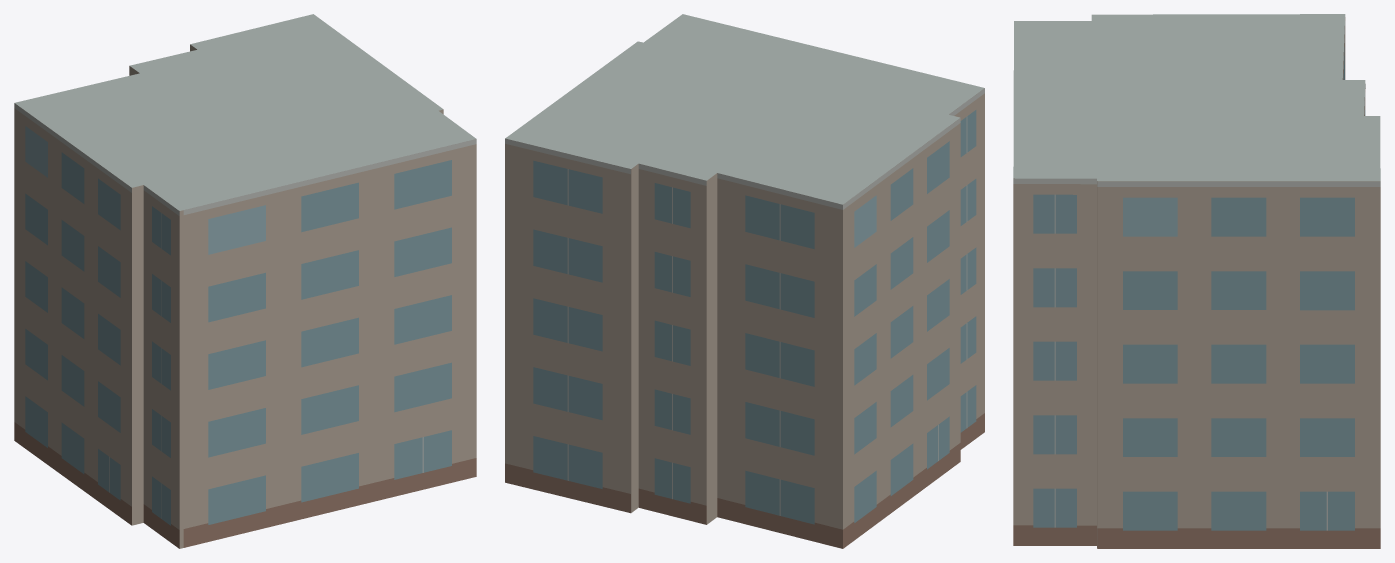
The model's file is survey-upis-32576062.glb.
3 renders of one model, left to right at view 1: azimuth 30°, elevation 25°; view 2: azimuth 150°, elevation 25°; view 3: azimuth 270°, elevation 25°, orthographic. The views are drawn at different scales.
Parts seen in each view (by area): view 1: survey-upis-32576062.tmp; view 2: survey-upis-32576062.tmp; view 3: survey-upis-32576062.tmp.
Boxes of the visible parts, left/top/right/bottom form: survey-upis-32576062.tmp: left=14, top=14, right=476, bottom=548; survey-upis-32576062.tmp: left=505, top=14, right=984, bottom=548; survey-upis-32576062.tmp: left=1013, top=14, right=1380, bottom=548.
Bounding box in the file's own units: 15.65 × 16 × 14.5.
